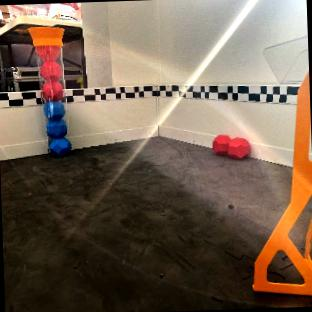V5_BLUE: (44, 101, 70, 155)
V5_RED: (30, 27, 69, 155), (212, 134, 249, 159), (42, 62, 63, 100)
